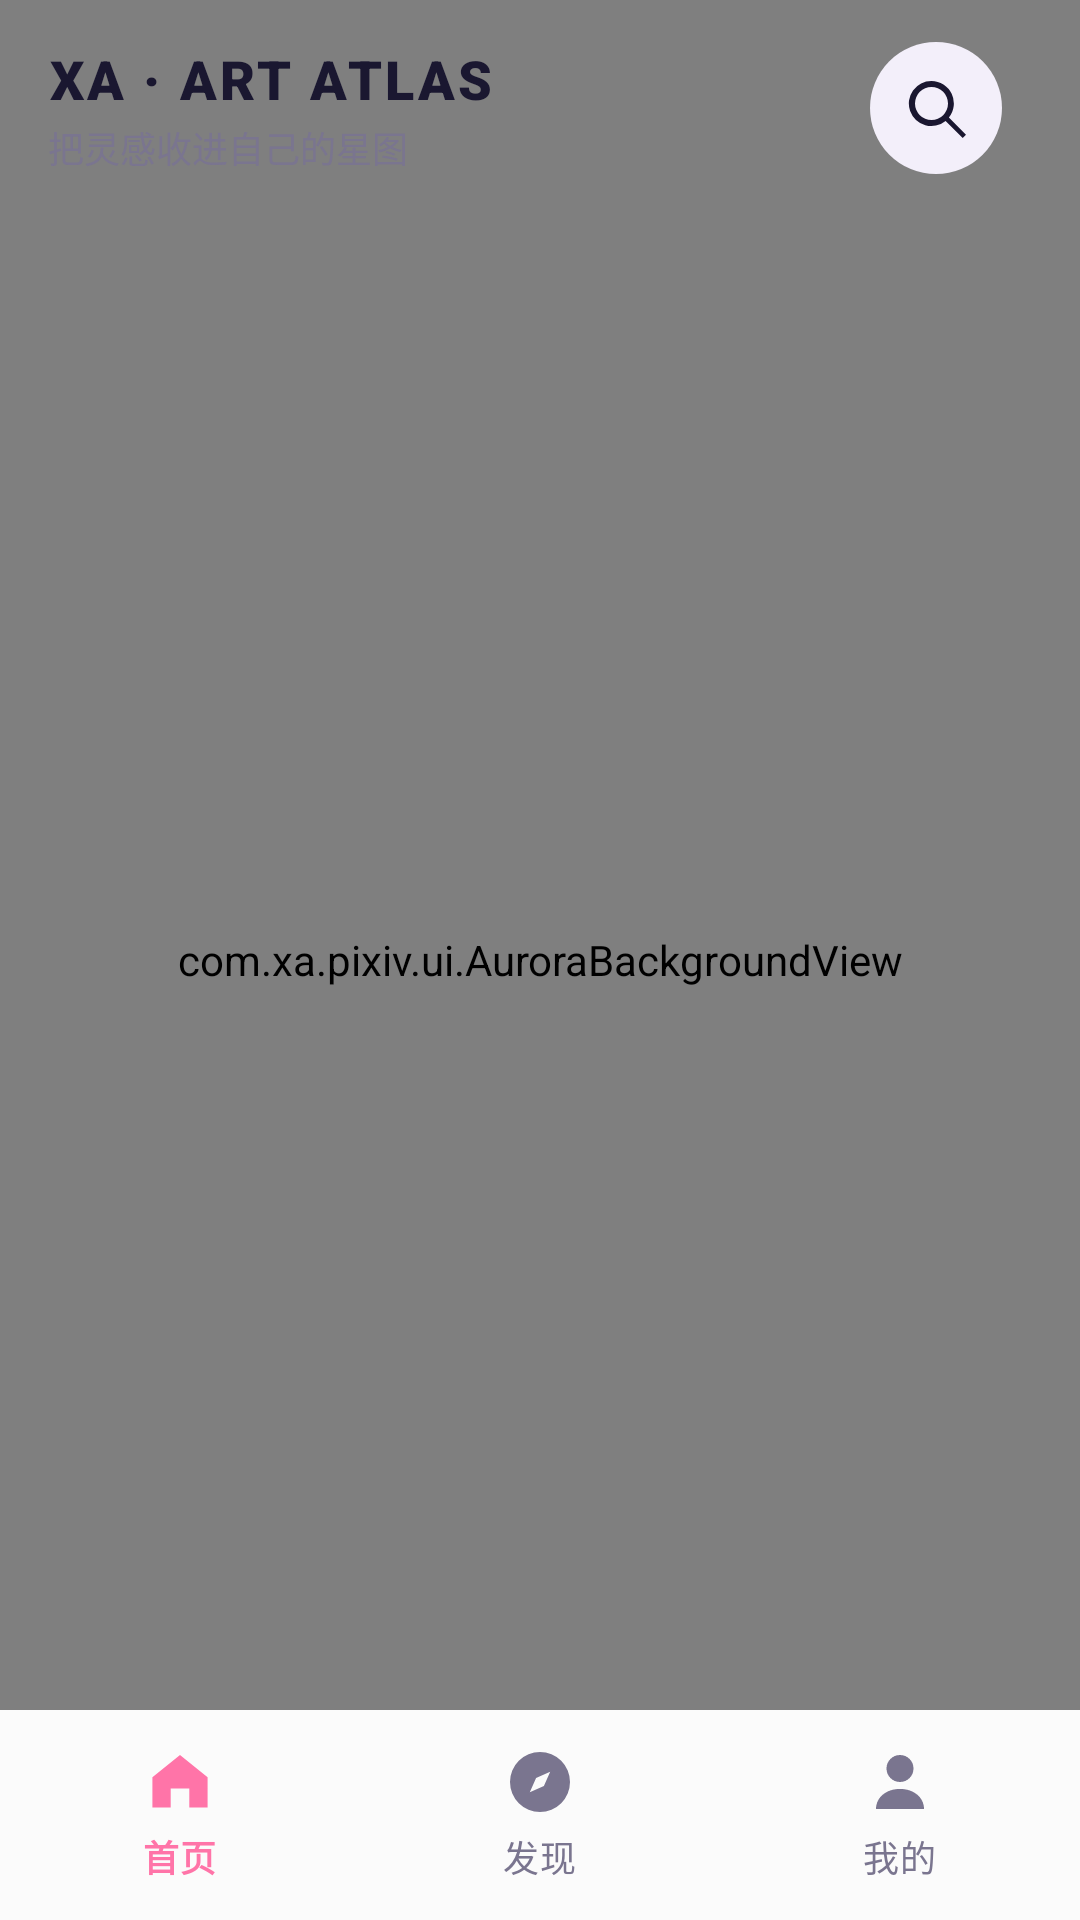

Where to tap for icons on this 1080 x 1920 app screen, as point (x, y):
搜索: point (936, 108)
